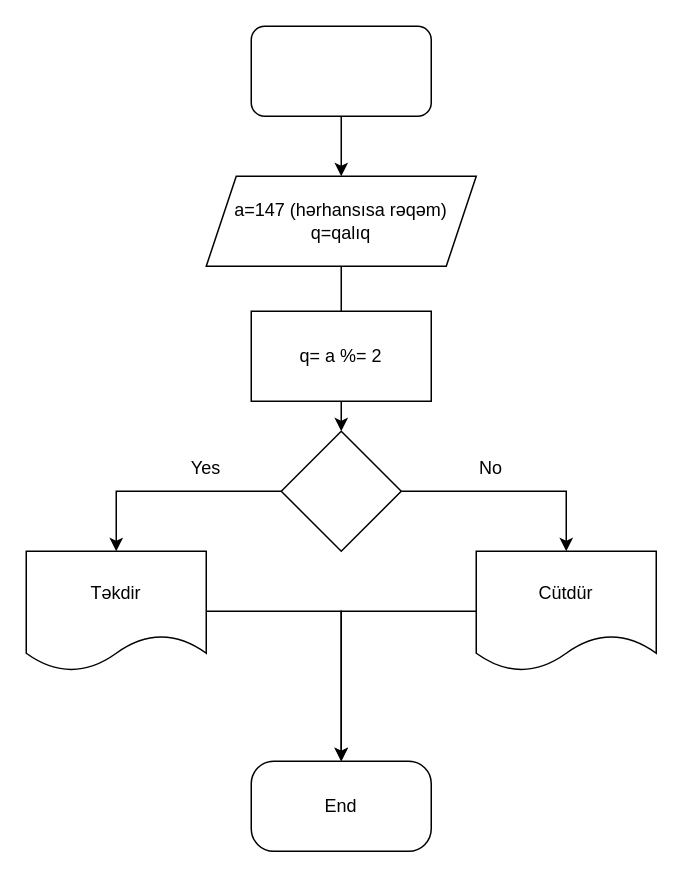
Some shapes in this 683 by 878 pixel diagram are drawn without their labels. The shapes that lost their labels are listed below. From the top down, each one's centre as x and y in pixels, then its label:
(340,70): Start
(340,490): q>0
